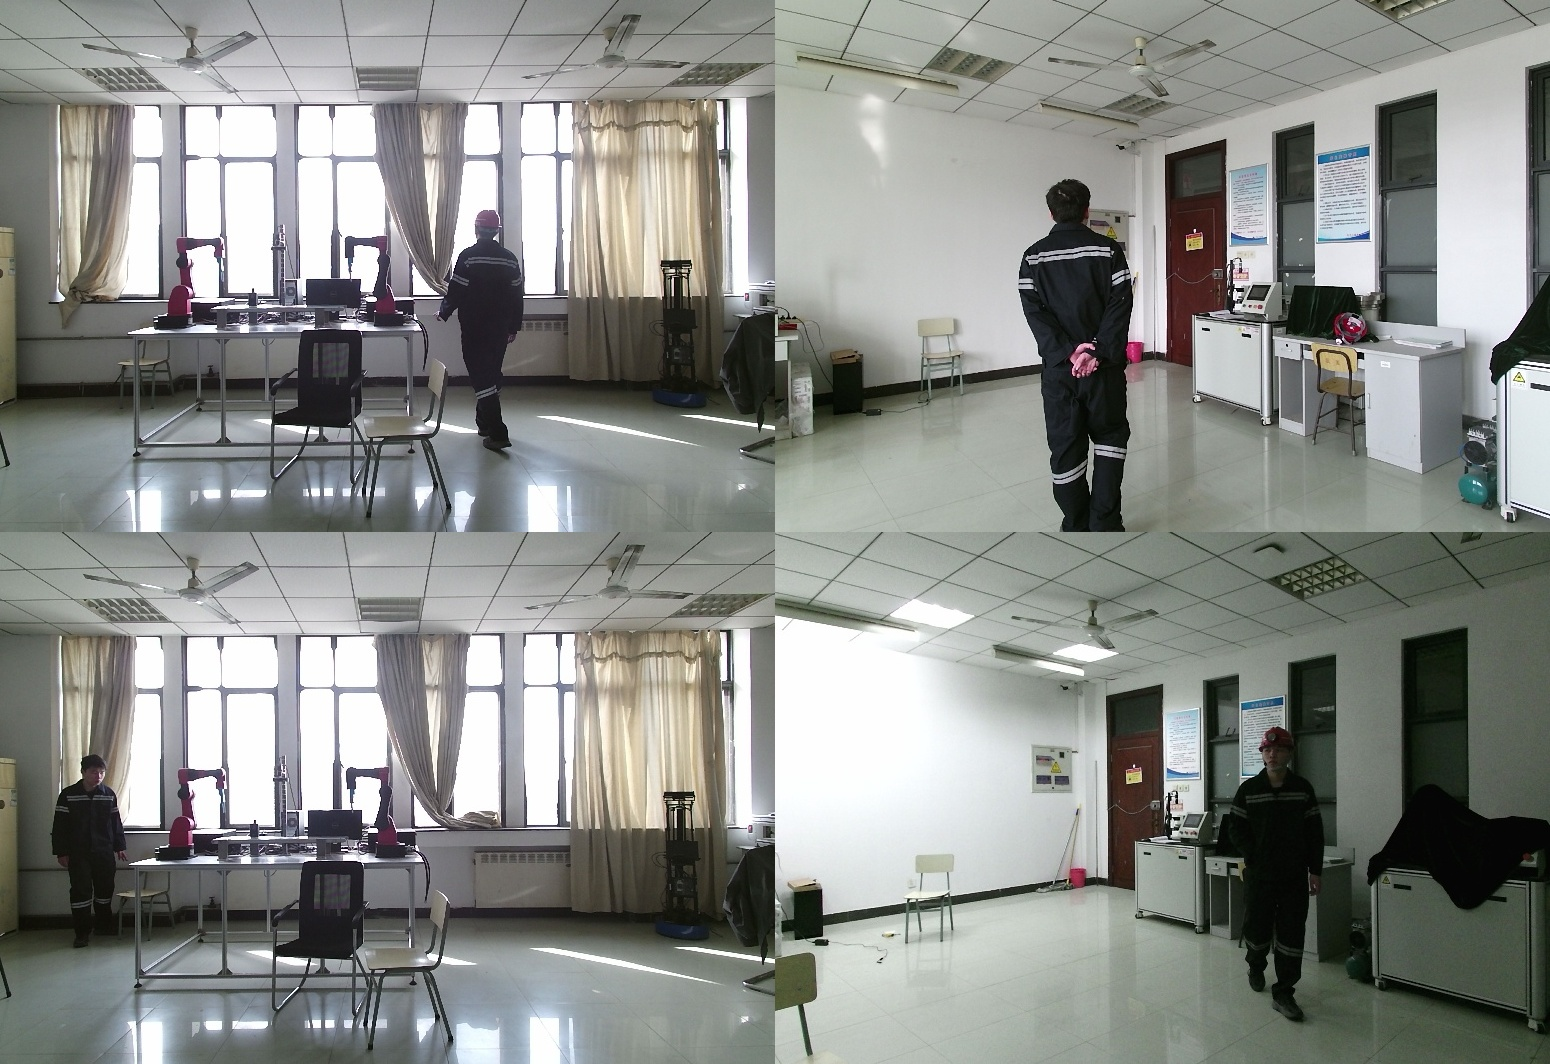person: (1015, 178, 1147, 532), (1219, 728, 1338, 1017), (439, 207, 529, 455), (42, 756, 127, 947)
